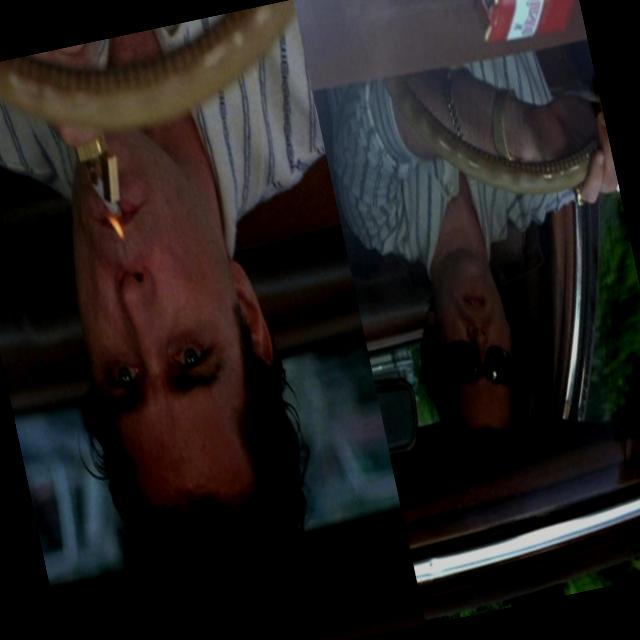cigarette: (80, 154, 136, 242)
